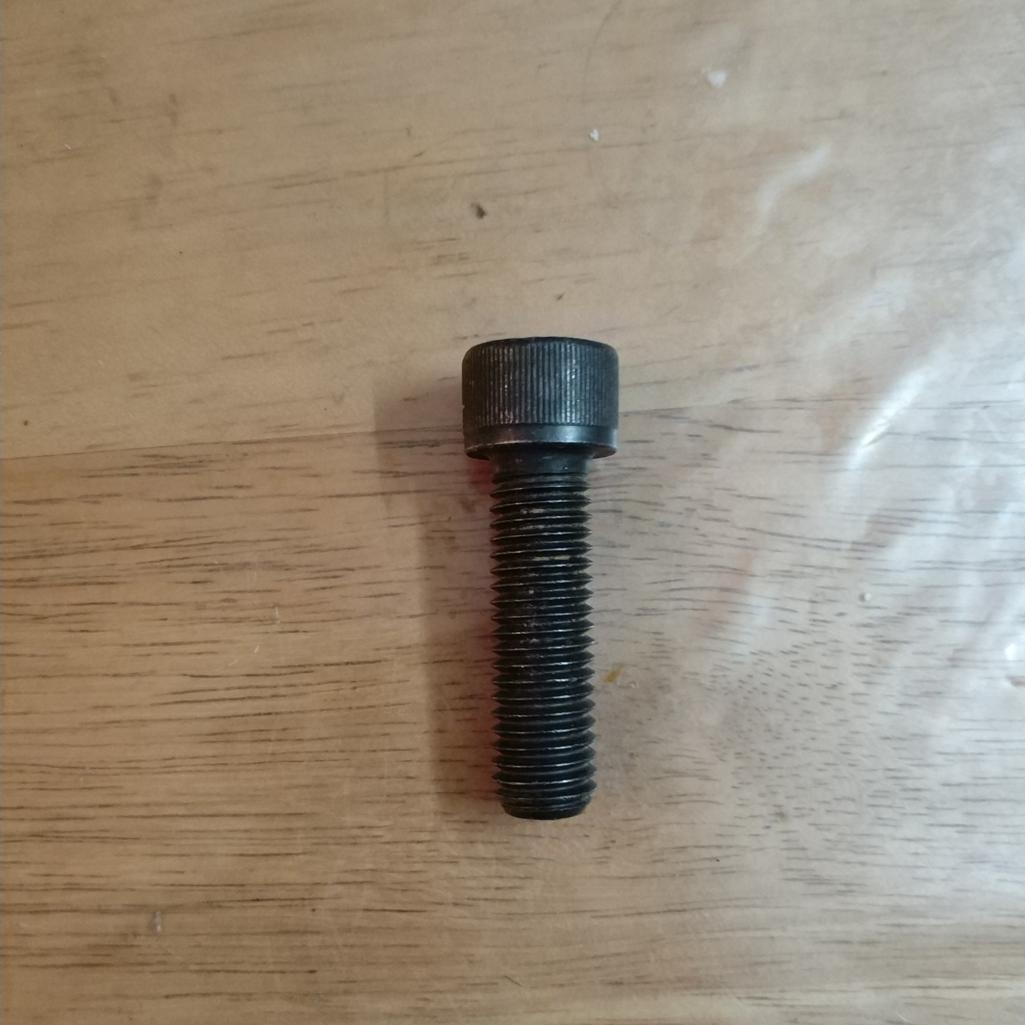screwtype1black: (450, 330, 634, 828)
